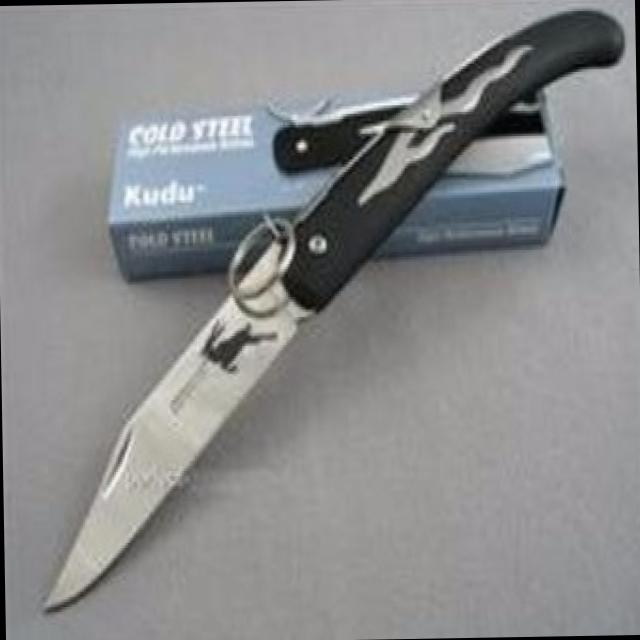knife: (34, 6, 635, 612)
